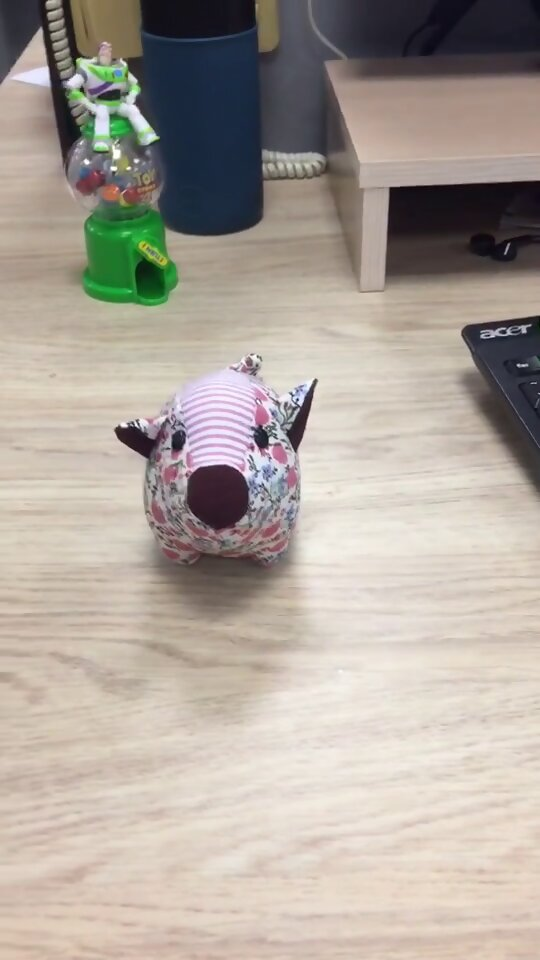pig: (109, 348, 323, 569)
